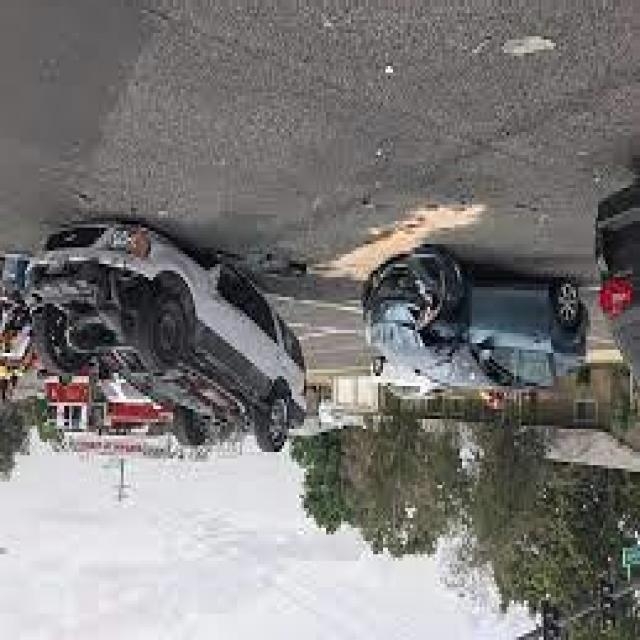severe: (22, 214, 309, 456)
